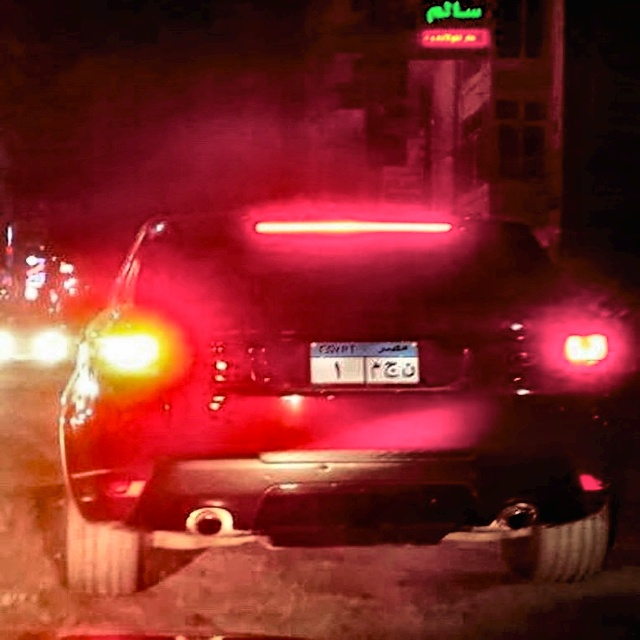License Plate: (307, 338, 421, 387)
